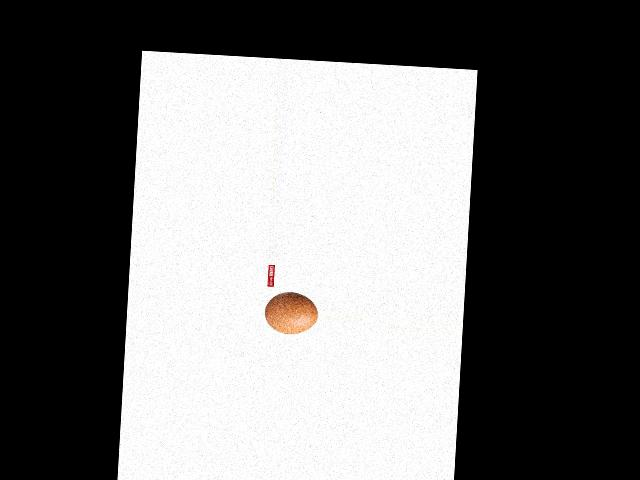egg: (263, 291, 318, 336)
